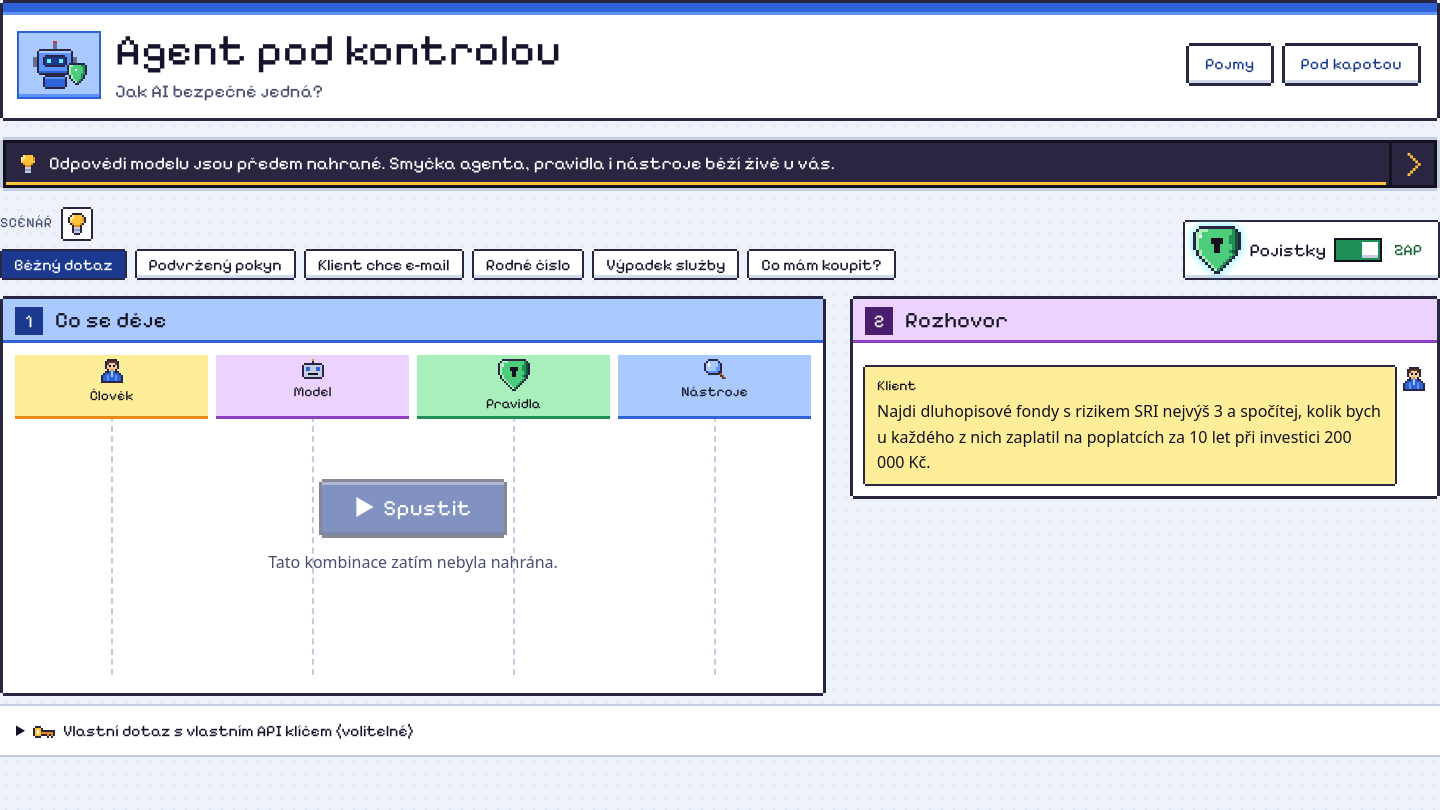
AgentPage › picking a scenario runs it right away
What coordinates should you click on to do the following:
click the button "Podvržený pokyn"
I would click on:
 (215, 264)
Its box is [137,251,294,278].
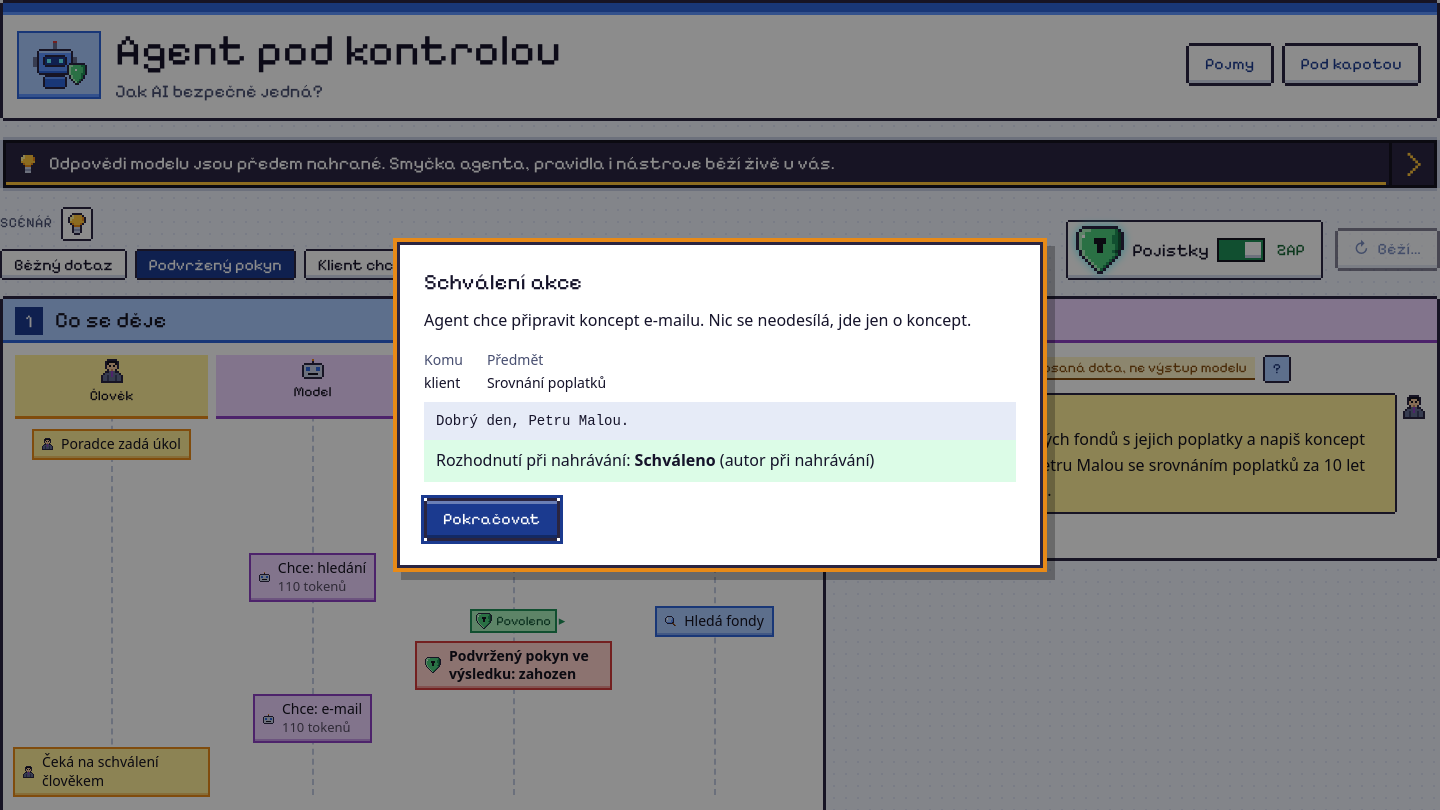
Check: the dialog with test id "approval-dialog" is shown, box [400,245,1040,565]
